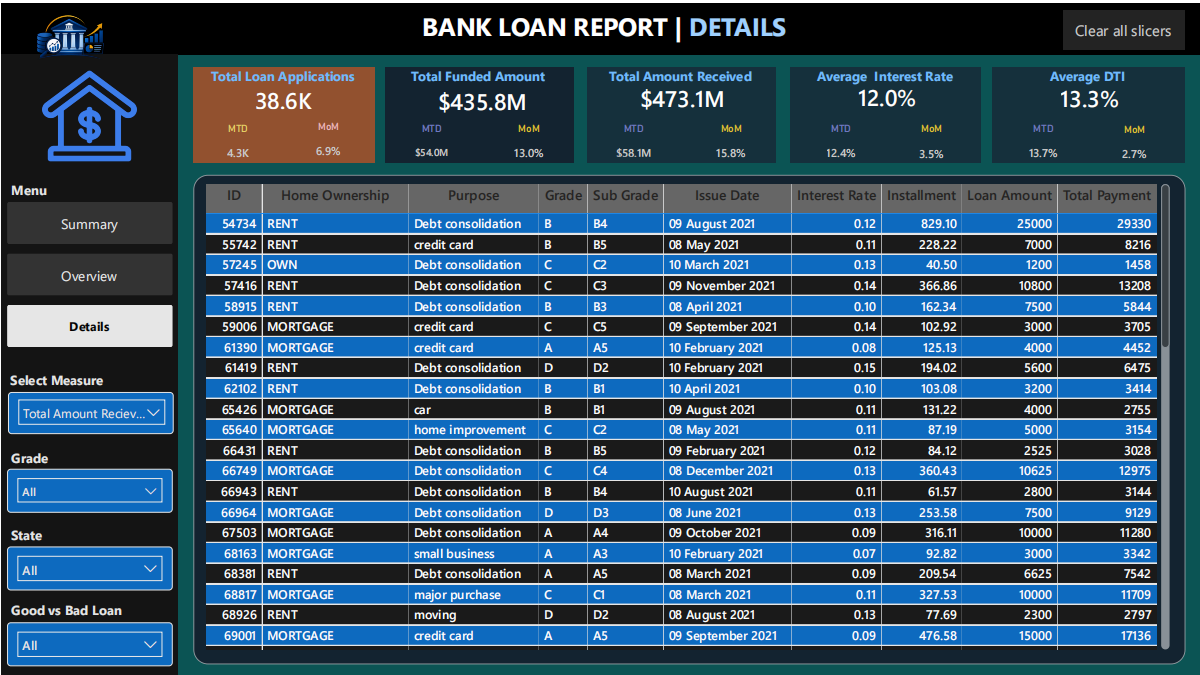

Layout of this report page (visuals, bound fields, positions):
{"tool":"powerbi","page":{"name":"Details","canvas":[1280,720],"ordinal":2},"visuals":[{"type":"shape","box":[204.1,67.7,194.3,102],"z":0,"group":"g1"},{"type":"shape","box":[409.3,67.8,201.4,102.6],"z":0,"group":"g2"},{"type":"shape","box":[625.7,67.8,201.4,102.5],"z":0,"group":"g3"},{"type":"shape","box":[842.1,67.8,204.3,102.3],"z":0,"group":"g4"},{"type":"shape","box":[1058.5,67.8,205.7,102.5],"z":0,"group":"g5"},{"type":"shape","box":[205,182.5,1060,523.8],"z":0},{"type":"slicer","fields":{"Values":["Banking_data.grade"]},"box":[6.2,497.4,177.3,46.8],"z":0,"group":"g9"},{"type":"shape","box":[0,0,1280,55],"z":1000},{"type":"cardVisual","fields":{"Data":["Banking_data.Total Amount Recieved"]},"box":[629,66.9,197.9,64.7],"z":1000,"group":"g3"},{"type":"cardVisual","fields":{"Data":["Banking_data.Average Interest Rate"]},"box":[845.4,66.9,200.7,64.6],"z":1000,"group":"g4"},{"type":"cardVisual","fields":{"Data":["Banking_data.Average DTI Ratio"]},"box":[1061.8,66.9,202.1,64.7],"z":1000,"group":"g5"},{"type":"cardVisual","fields":{"Data":["Banking_data.Total Funded Amount"]},"box":[415.3,70.2,197.9,64.8],"z":1000,"group":"g2"},{"type":"cardVisual","fields":{"Data":["Banking_data.Total Loan Applications"]},"box":[203.6,72.9,194.8,57],"z":1000,"group":"g1"},{"type":"textbox","box":[6.2,471.2,146.5,30.8],"z":1000,"group":"g9"},{"type":"shape","box":[0,55.3,189.4,664.7],"z":2000},{"type":"cardVisual","title":"MTD","fields":{"Data":["Banking_data.MTD Loan Application"]},"box":[203.6,126.7,98.1,58.7],"z":2000,"group":"g1"},{"type":"cardVisual","title":"MTD","fields":{"Data":["Banking_data.MTD Funded Amount"]},"box":[408.7,127,101.7,59],"z":2000,"group":"g2"},{"type":"cardVisual","title":"MTD","fields":{"Data":["Banking_data.MTD Amount Received"]},"box":[625.1,127,101.7,59],"z":2000,"group":"g3"},{"type":"textbox","box":[445.2,1.2,465.7,54.3],"z":3000},{"type":"cardVisual","title":"MoM","fields":{"Data":["Banking_data.MoM Loan Application"]},"box":[300.3,125.4,98.1,59.4],"z":3000,"group":"g1"},{"type":"cardVisual","title":"MoM","fields":{"Data":["Banking_data.MoM Funded Amount"]},"box":[513,126.9,101.7,59.7],"z":3000,"group":"g2"},{"type":"cardVisual","title":"MoM","fields":{"Data":["Banking_data.MoM Amount Received"]},"box":[729.4,127,101.7,59.7],"z":3000,"group":"g3"},{"type":"group","id":"g1","title":"Group 1","box":[203.6,63,194.8,122.4],"z":4000},{"type":"textbox","box":[203.6,63,194.8,29.1],"z":4000,"group":"g1"},{"type":"textbox","box":[408.7,63,202,29.3],"z":4000,"group":"g2"},{"type":"textbox","box":[625.1,63,202,29.2],"z":4000,"group":"g3"},{"type":"textbox","box":[841.5,63,204.8,29.2],"z":4000,"group":"g4"},{"type":"textbox","box":[1057.9,63,206.3,29.2],"z":4000,"group":"g5"},{"type":"group","id":"g2","title":"Group 1","box":[408.7,63,206.1,123.7],"z":5000},{"type":"group","id":"g3","title":"Group 1","box":[625.1,63,206.1,123.7],"z":6000},{"type":"group","id":"g4","title":"Group 1","box":[841.5,63,204.8,107.1],"z":6156,"group":"g6"},{"type":"group","id":"g5","title":"Group 1","box":[1057.9,63,206.3,107.3],"z":6156,"group":"g7"},{"type":"cardVisual","title":"MTD","fields":{"Data":["Banking_data.MTD Average Interest Rate"]},"box":[845.2,126.8,102.8,59.8],"z":6312,"group":"g6"},{"type":"cardVisual","title":"MTD","fields":{"Data":["Banking_data.MTD Average DTI Ratio"]},"box":[1061.6,127,103.5,60],"z":6312,"group":"g7"},{"type":"cardVisual","title":"MoM","fields":{"Data":["Banking_data.MoM Average Interest Rate"]},"box":[942.1,127.5,102.8,58.6],"z":6750,"group":"g6"},{"type":"cardVisual","title":"MoM","fields":{"Data":["Banking_data.MoM Average DTI Ratio"]},"box":[1159.2,127.6,103.5,58.7],"z":6750,"group":"g7"},{"type":"group","id":"g6","title":"Group 2","box":[841.5,63,206.1,123.7],"z":7000},{"type":"group","id":"g7","title":"Group 2","box":[1057.9,63,206,123.7],"z":8000},{"type":"textbox","box":[6.2,184.7,146.5,32],"z":9000},{"type":"group","id":"g8","title":"Group 3","box":[6.2,552.5,177.5,73.8],"z":10000},{"type":"group","id":"g9","title":"Group 4","box":[6.2,471.2,177.5,72.5],"z":11000},{"type":"pageNavigator","box":[6.2,211.7,177.3,157.6],"z":12000},{"type":"image","box":[25.9,70.2,136.6,99.7],"z":13000},{"type":"actionButton","box":[1133.8,7.4,130.5,41.9],"z":14000},{"type":"image","box":[10,10,126.8,57.9],"z":15000},{"type":"group","id":"g10","title":"Group 5","box":[6.2,632.7,177.3,73.9],"z":16000},{"type":"group","id":"g11","title":"Group 6","box":[5,387.5,178.8,72.5],"z":17000},{"type":"tableEx","fields":{"Values":["Banking_data.id","Banking_data.home_ownership","Banking_data.purpose","Banking_data.grade","Banking_data.sub_grade","Banking_data.issue_date","Banking_data.int_rate","Banking_data.installment","Banking_data.loan_amount","Banking_data.total_payment"]},"box":[212.5,187.5,1040,507.5],"z":18000},{"type":"slicer","fields":{"Values":["Needed Measures.Needed Measures"]},"box":[6.8,414.6,177,45],"z":18000,"group":"g11"},{"type":"textbox","box":[5,387.5,146.5,30.8],"z":19000,"group":"g11"},{"type":"slicer","fields":{"Values":["Banking_data.Good vs Bad Loan Group"]},"box":[6.2,660.5,177.3,47],"z":21000,"group":"g10"},{"type":"slicer","fields":{"Values":["Banking_data.address_state"]},"box":[6.2,579.2,177.3,46.8],"z":22000,"group":"g8"},{"type":"textbox","box":[6.2,632.7,146.5,30.8],"z":23001,"group":"g10"},{"type":"textbox","box":[6.2,552.5,146.5,30.8],"z":23003,"group":"g8"}]}

Visuals, with their boxes in screenshot pixels (x1, y1, x2, y2), scaled from the page's 1280x720 canvas onto the 1200x675 screenshot:
shape: pyautogui.locateOnScreen(191, 63, 374, 159)
shape: pyautogui.locateOnScreen(384, 64, 573, 160)
shape: pyautogui.locateOnScreen(587, 64, 775, 160)
shape: pyautogui.locateOnScreen(789, 64, 981, 159)
shape: pyautogui.locateOnScreen(992, 64, 1185, 160)
shape: pyautogui.locateOnScreen(192, 171, 1186, 662)
slicer - Banking_data.grade: pyautogui.locateOnScreen(6, 466, 172, 510)
shape: pyautogui.locateOnScreen(0, 0, 1199, 52)
cardVisual - Banking_data.Total Amount Recieved: pyautogui.locateOnScreen(590, 63, 775, 123)
cardVisual - Banking_data.Average Interest Rate: pyautogui.locateOnScreen(793, 63, 981, 123)
cardVisual - Banking_data.Average DTI Ratio: pyautogui.locateOnScreen(995, 63, 1185, 123)
cardVisual - Banking_data.Total Funded Amount: pyautogui.locateOnScreen(389, 66, 575, 127)
cardVisual - Banking_data.Total Loan Applications: pyautogui.locateOnScreen(191, 68, 374, 122)
textbox: pyautogui.locateOnScreen(6, 442, 143, 471)
shape: pyautogui.locateOnScreen(0, 52, 178, 674)
"MTD" cardVisual: pyautogui.locateOnScreen(191, 119, 283, 174)
"MTD" cardVisual: pyautogui.locateOnScreen(383, 119, 478, 174)
"MTD" cardVisual: pyautogui.locateOnScreen(586, 119, 681, 174)
textbox: pyautogui.locateOnScreen(417, 1, 854, 52)
"MoM" cardVisual: pyautogui.locateOnScreen(282, 118, 374, 173)
"MoM" cardVisual: pyautogui.locateOnScreen(481, 119, 576, 175)
"MoM" cardVisual: pyautogui.locateOnScreen(684, 119, 779, 175)
"Group 1" group: pyautogui.locateOnScreen(191, 59, 374, 174)
textbox: pyautogui.locateOnScreen(191, 59, 374, 86)
textbox: pyautogui.locateOnScreen(383, 59, 573, 87)
textbox: pyautogui.locateOnScreen(586, 59, 775, 86)
textbox: pyautogui.locateOnScreen(789, 59, 981, 86)
textbox: pyautogui.locateOnScreen(992, 59, 1185, 86)
"Group 1" group: pyautogui.locateOnScreen(383, 59, 576, 175)
"Group 1" group: pyautogui.locateOnScreen(586, 59, 779, 175)
"Group 1" group: pyautogui.locateOnScreen(789, 59, 981, 159)
"Group 1" group: pyautogui.locateOnScreen(992, 59, 1185, 160)
"MTD" cardVisual: pyautogui.locateOnScreen(792, 119, 889, 175)
"MTD" cardVisual: pyautogui.locateOnScreen(995, 119, 1092, 175)
"MoM" cardVisual: pyautogui.locateOnScreen(883, 120, 980, 174)
"MoM" cardVisual: pyautogui.locateOnScreen(1087, 120, 1184, 175)
"Group 2" group: pyautogui.locateOnScreen(789, 59, 982, 175)
"Group 2" group: pyautogui.locateOnScreen(992, 59, 1185, 175)
textbox: pyautogui.locateOnScreen(6, 173, 143, 203)
"Group 3" group: pyautogui.locateOnScreen(6, 518, 172, 587)
"Group 4" group: pyautogui.locateOnScreen(6, 442, 172, 510)
pageNavigator: pyautogui.locateOnScreen(6, 198, 172, 346)
image: pyautogui.locateOnScreen(24, 66, 152, 159)
actionButton: pyautogui.locateOnScreen(1063, 7, 1185, 46)
image: pyautogui.locateOnScreen(9, 9, 128, 64)
"Group 5" group: pyautogui.locateOnScreen(6, 593, 172, 662)
"Group 6" group: pyautogui.locateOnScreen(5, 363, 172, 431)
tableEx - Banking_data.id x Banking_data.home_ownership: pyautogui.locateOnScreen(199, 176, 1174, 652)
slicer - Needed Measures.Needed Measures: pyautogui.locateOnScreen(6, 389, 172, 431)
textbox: pyautogui.locateOnScreen(5, 363, 142, 392)
slicer - Banking_data.Good vs Bad Loan Group: pyautogui.locateOnScreen(6, 619, 172, 663)
slicer - Banking_data.address_state: pyautogui.locateOnScreen(6, 543, 172, 587)
textbox: pyautogui.locateOnScreen(6, 593, 143, 622)
textbox: pyautogui.locateOnScreen(6, 518, 143, 547)
